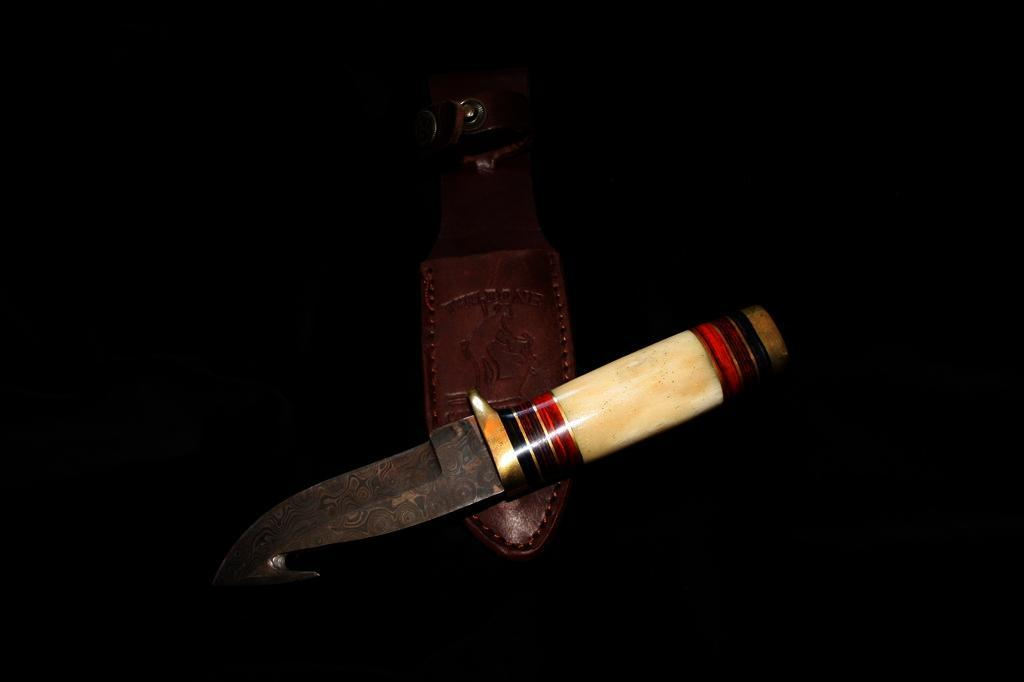melee: (205, 305, 795, 584)
